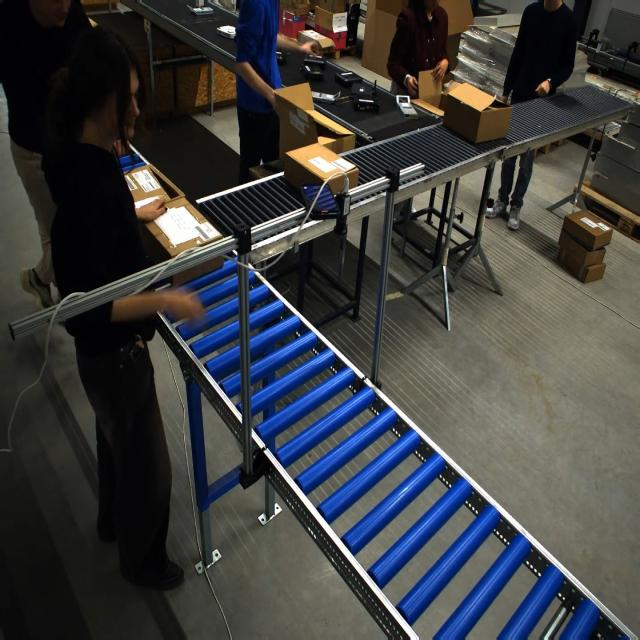box: (144, 196, 225, 273), (441, 82, 512, 144), (273, 82, 323, 159), (285, 143, 351, 197), (122, 160, 175, 210), (559, 210, 613, 253), (308, 110, 354, 154)
product: (394, 94, 415, 118), (334, 70, 361, 87), (312, 89, 339, 102), (187, 4, 214, 16), (302, 54, 325, 68), (216, 24, 237, 39)
